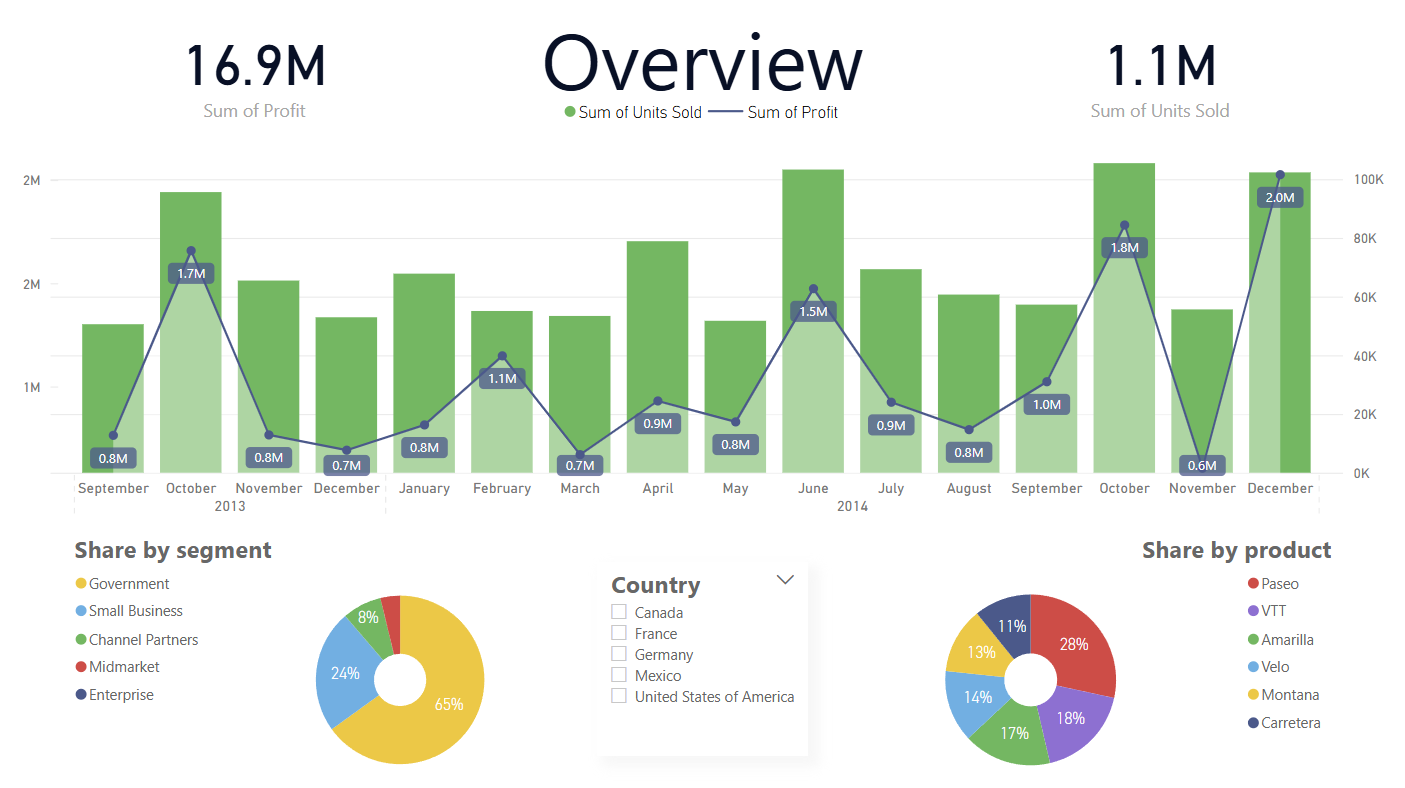

What the dashboard file says about the page in this screenshot:
{"tool":"powerbi","page":{"name":"Overview","canvas":[1280,720],"ordinal":0},"visuals":[{"type":"card","fields":{"Values":["Sum(financials.Profit)"]},"box":[128,16,208,96],"z":0},{"type":"card","fields":{"Values":["Sum(financials.Units Sold)"]},"box":[944,16,224,96],"z":1000},{"type":"lineStackedColumnComboChart","title":"Profit, Units sold","fields":{"Category":["financials.Date.Variation.Date Hierarchy.Year","financials.Date.Variation.Date Hierarchy.Month"],"Y":["Sum(financials.Units Sold)"],"Y2":["Sum(financials.Profit)"]},"box":[16,80,1248,400],"z":2000},{"type":"textbox","box":[224,0,832,112],"z":3000},{"type":"donutChart","title":"Share by segment","fields":{"Category":["financials.Segment"],"Y":["Sum(financials.Profit)"]},"box":[64,480,480,240],"z":4000},{"type":"donutChart","title":"Share by product","fields":{"Y":["Sum(financials.Profit)"],"Category":["financials.Product"]},"box":[736,480,480,240],"z":5000},{"type":"slicer","fields":{"Values":["financials.Country"]},"box":[544,512,192,176],"z":6000}]}

Visuals, with their boxes in screenshot pixels (x1, y1, x2, y2), scaled from the page's 1280x720 canvas onto the 1405x788 screenshot:
card - Sum(financials.Profit): <region>140, 18, 369, 123</region>
card - Sum(financials.Units Sold): <region>1036, 18, 1282, 123</region>
"Profit, Units sold" lineStackedColumnComboChart: <region>18, 88, 1387, 525</region>
textbox: <region>246, 0, 1159, 123</region>
"Share by segment" donutChart: <region>70, 525, 597, 787</region>
"Share by product" donutChart: <region>808, 525, 1335, 787</region>
slicer - financials.Country: <region>597, 560, 808, 753</region>
